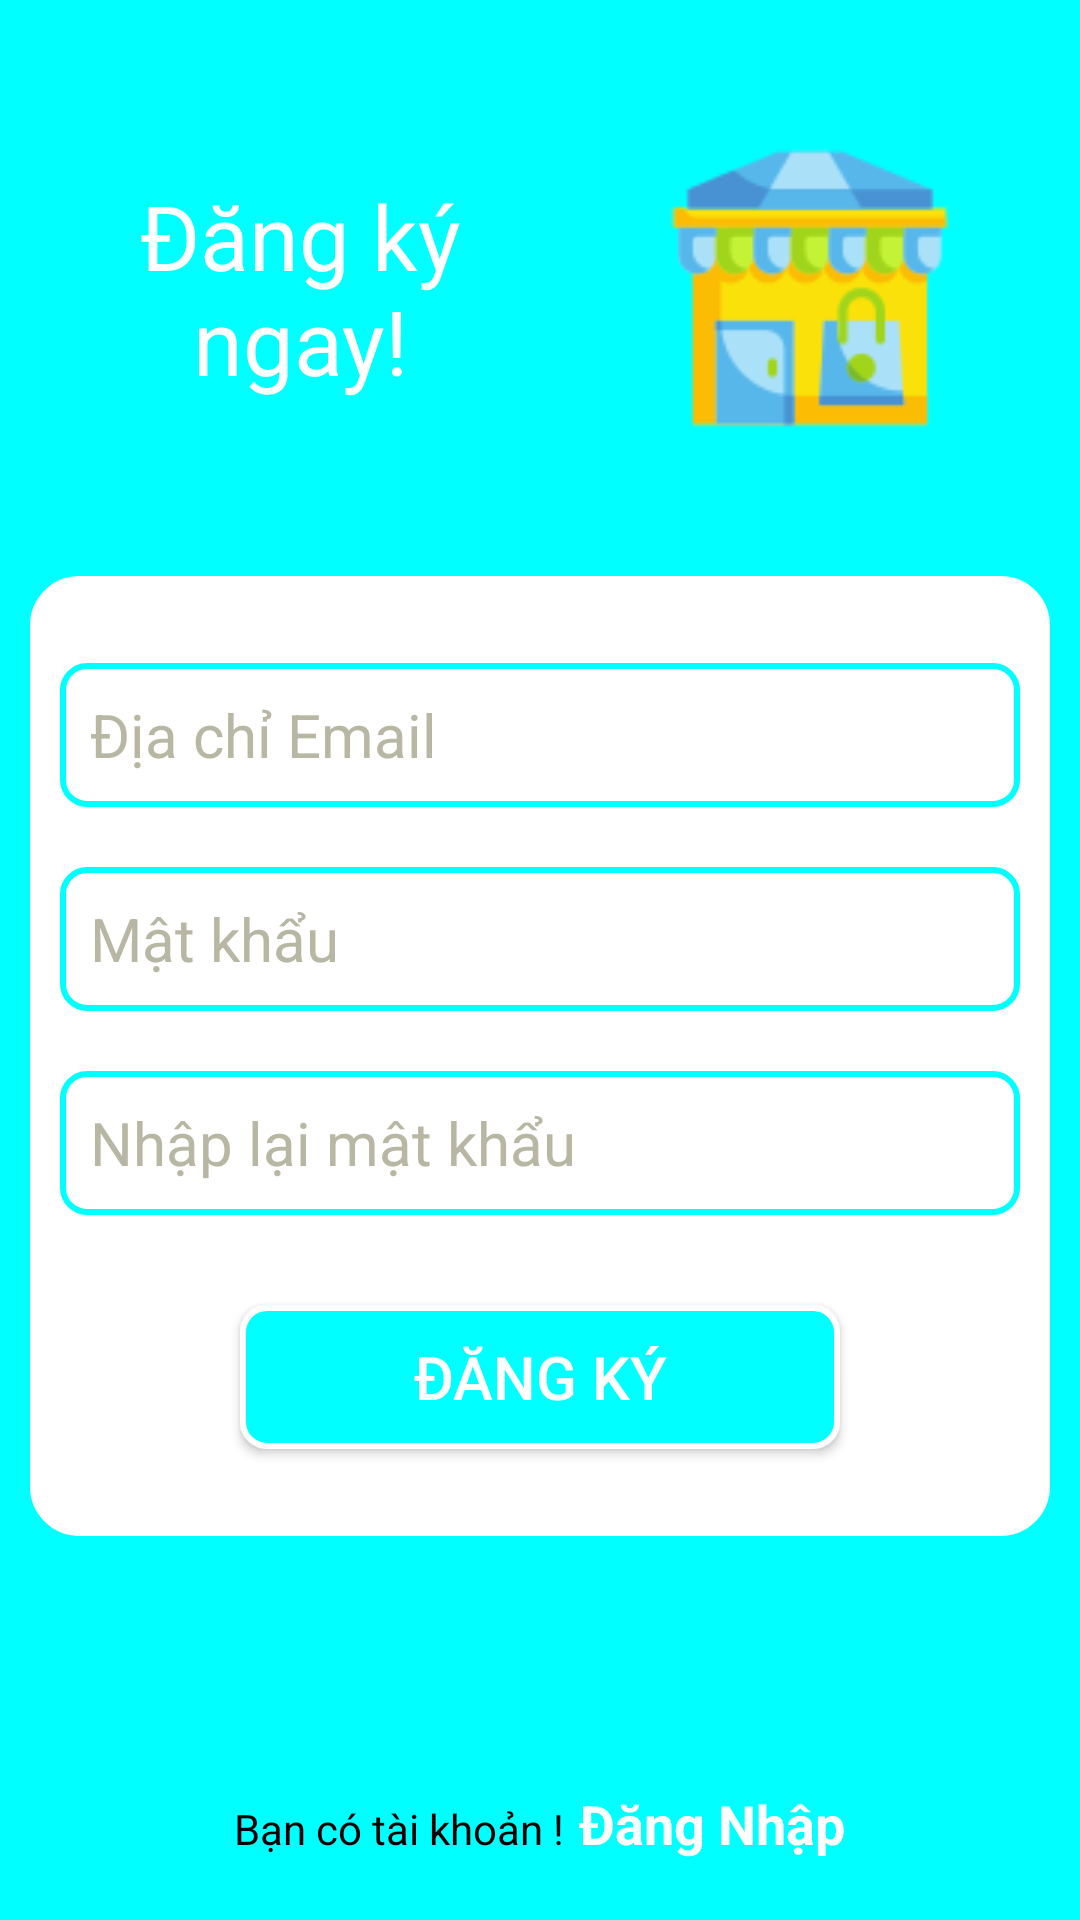

Icon click points for this 1080x1920 phone screenshot, format (x,y):
store: (810,288)
